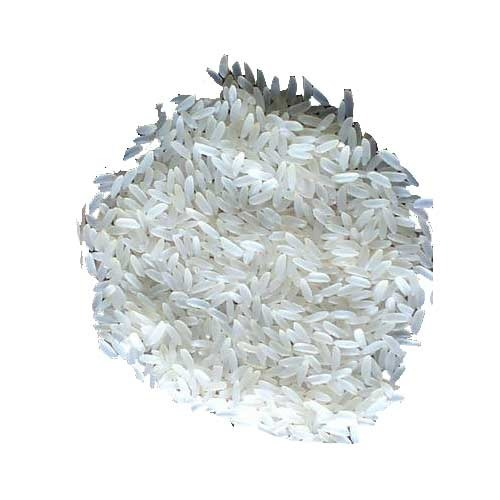plain rice: (95, 77, 418, 434)
